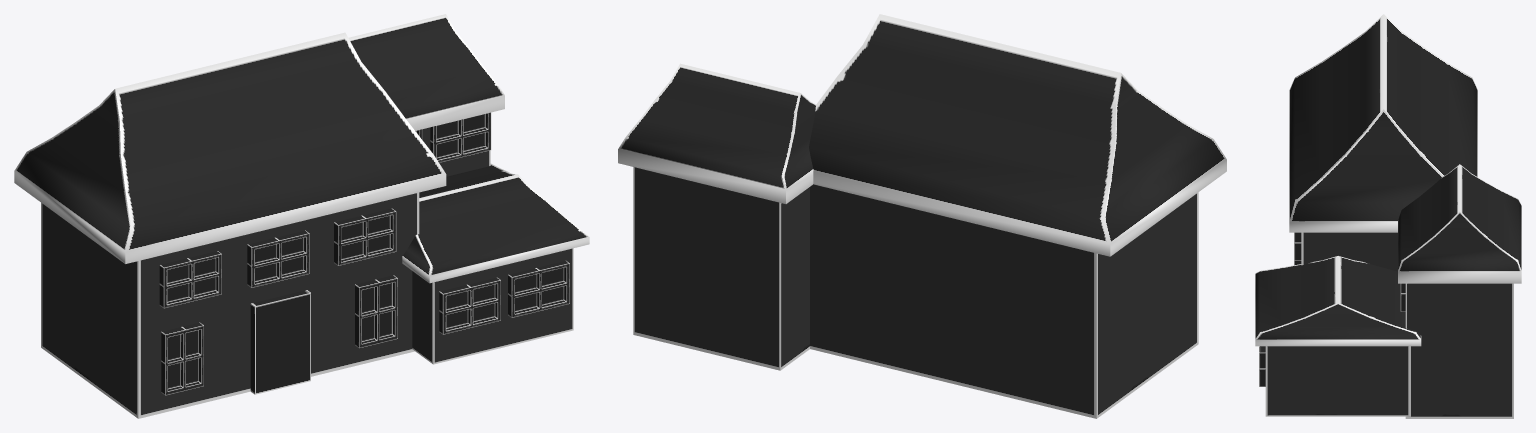
The model's file is BuildingEndGGJ.fbx.
The picture shows the model from 3 angles, left to right: view 1: azimuth 30°, elevation 25°; view 2: azimuth 150°, elevation 25°; view 3: azimuth 270°, elevation 25°; orthographic projection. The views are drawn at different scales.
Visible parts, largest first — view 1: pCube17; view 2: pCube17; view 3: pCube17.
Part boxes in pixels (x1=…): pCube17: x1=14, y1=14, x2=589, y2=418; pCube17: x1=618, y1=14, x2=1226, y2=418; pCube17: x1=1255, y1=14, x2=1521, y2=418.
Size of the model in its own units: 7.9 by 4.91 by 4.85.
